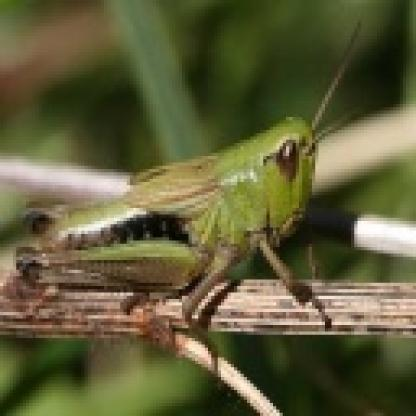grasshopper: (12, 72, 350, 350)
